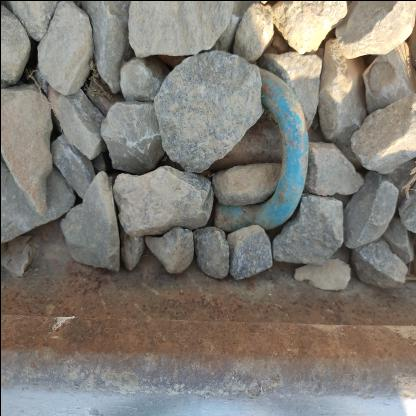Non Defective 1: (58, 120, 244, 343)
